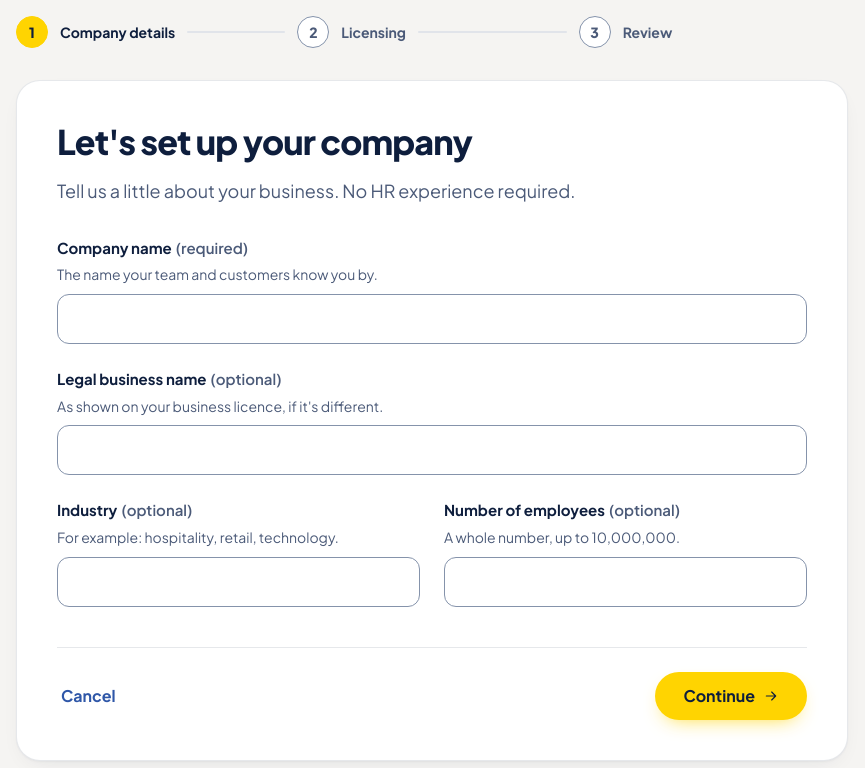
Test: OnboardingWizard: company details (step 1) › validates optional fields only when given
Type "Gamma" into the field labelled "Company name(required)".
click(432, 319); type("Gamma")  # box left=57, top=294, right=807, bottom=344
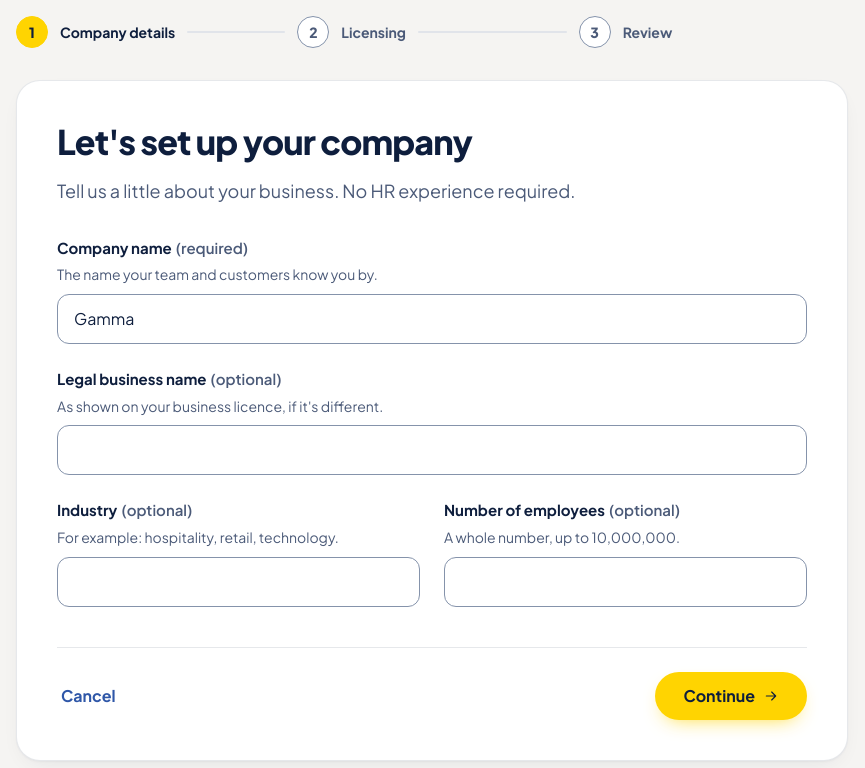
Type "a dozen" into the field labelled "Number of employees(optional)".
click(626, 582); type("a dozen")  # box left=444, top=556, right=807, bottom=606
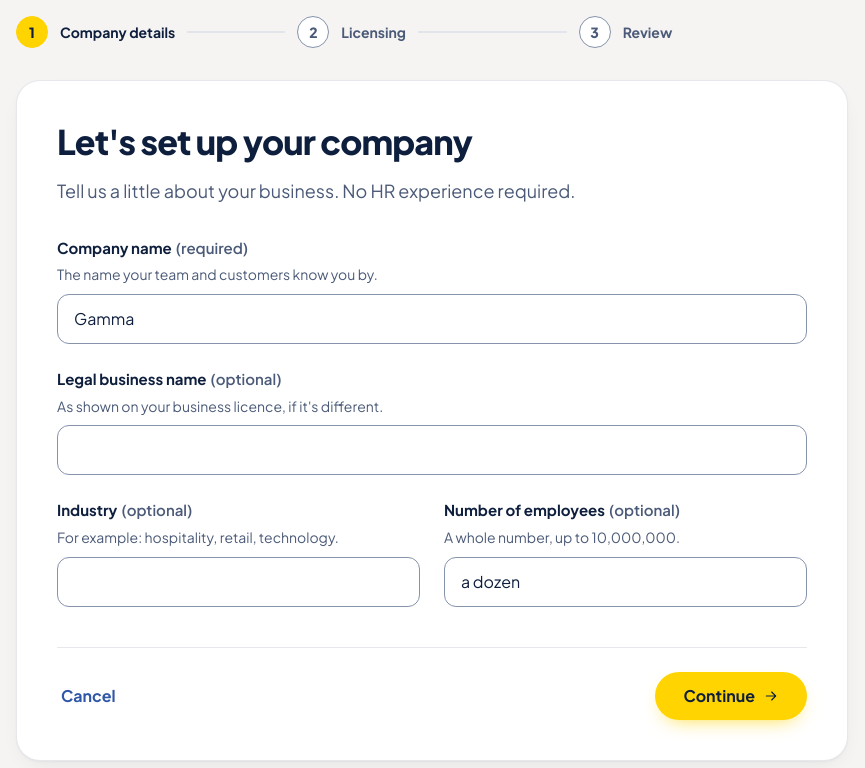
Click the button "Continue".
click(731, 696)  # box left=655, top=672, right=807, bottom=720
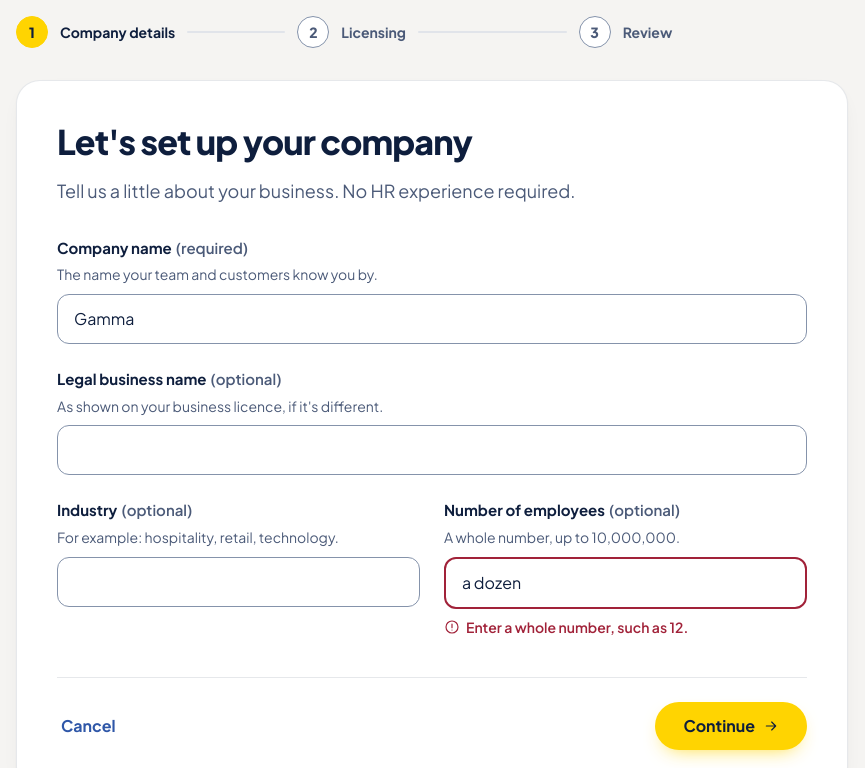
Clear the field labelled "Number of employees(optional)" at coordinates (626, 582), box left=444, top=556, right=807, bottom=608
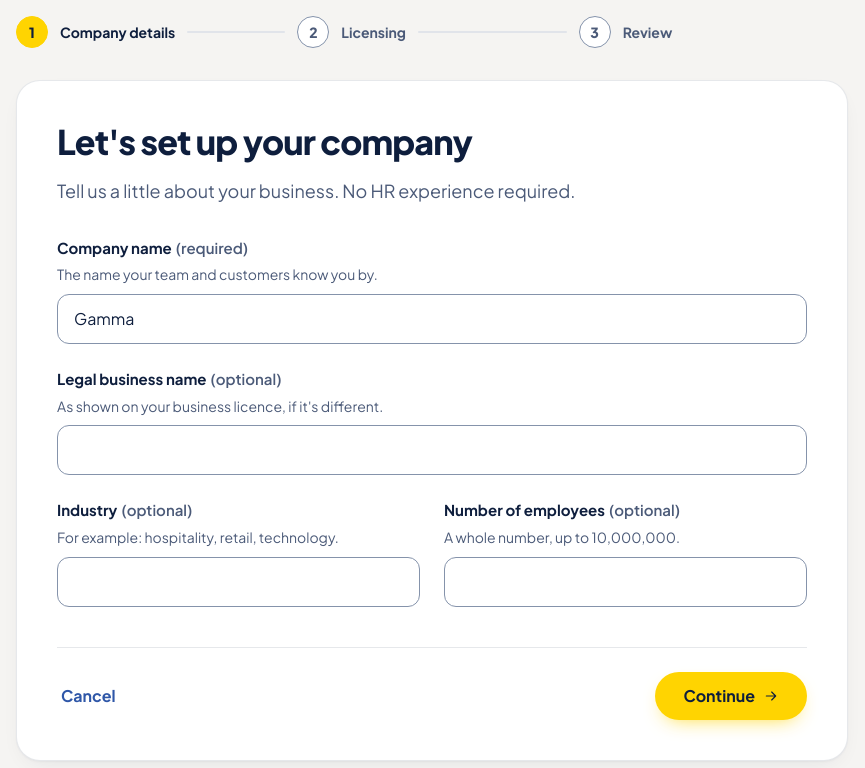
Click the button "Continue".
click(731, 696)  # box left=655, top=672, right=807, bottom=720
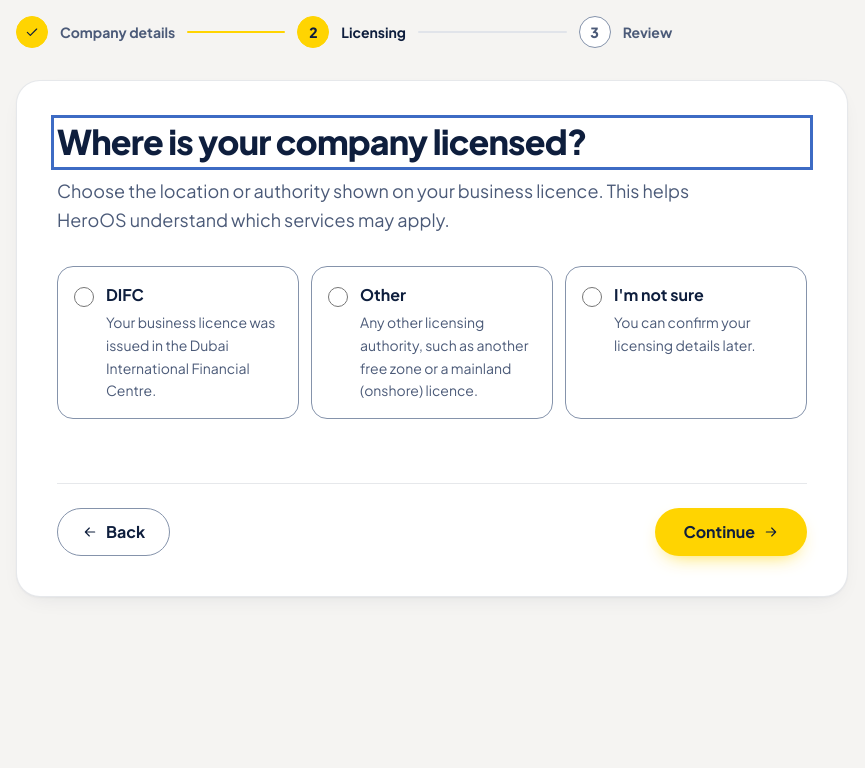
Result: the heading reads "Where is your company licensed?" at left=57, top=120, right=587, bottom=163
